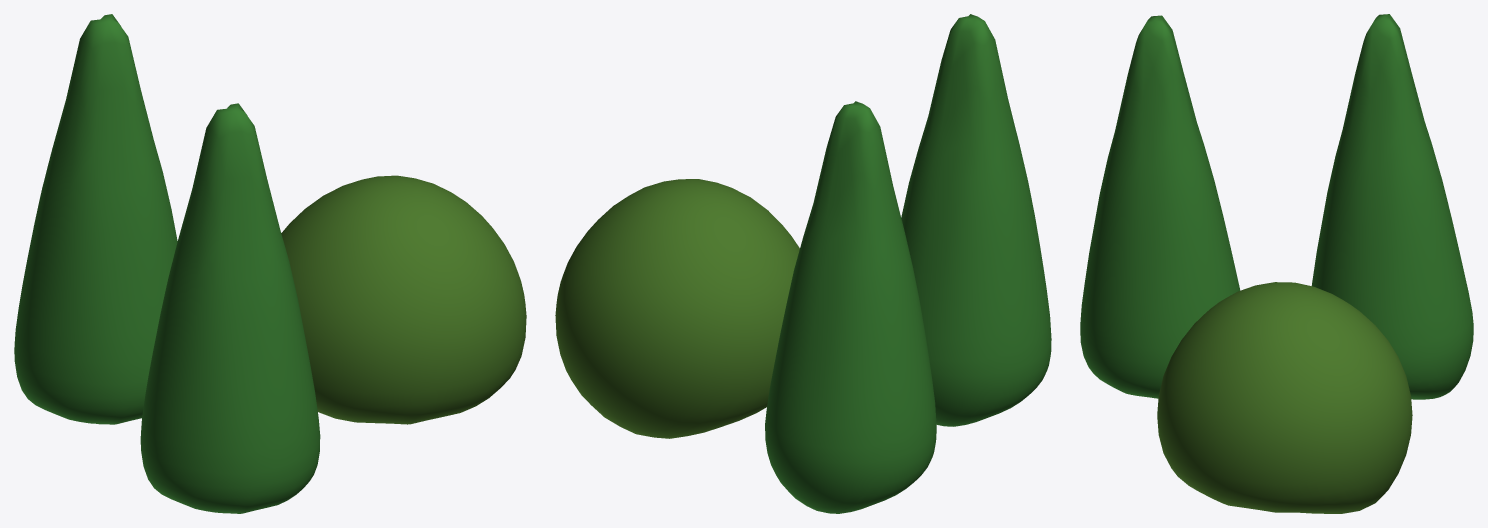
The model's file is Group_tree_3.fbx.
3 views of the same model, side by side, from view 1: azimuth 30°, elevation 25°; view 2: azimuth 150°, elevation 25°; view 3: azimuth 270°, elevation 25° (orthographic). The views are drawn at different scales.
Visible parts, largest first — view 1: Icosphere.006, Icosphere.001, Icosphere.012; view 2: Icosphere.001, Icosphere.012, Icosphere.006; view 3: Icosphere.001, Icosphere.006, Icosphere.012.
Part boxes in pixels (<box>): Icosphere.006: <box>140,103,320,513</box>; Icosphere.001: <box>281,175,526,424</box>; Icosphere.012: <box>14,14,177,424</box>; Icosphere.001: <box>555,179,799,438</box>; Icosphere.012: <box>765,101,936,513</box>; Icosphere.006: <box>901,14,1051,426</box>; Icosphere.001: <box>1157,282,1412,513</box>; Icosphere.006: <box>1080,15,1240,398</box>; Icosphere.012: <box>1311,14,1473,399</box>.
Bounding box in the file's own units: 261 × 242 × 226.
